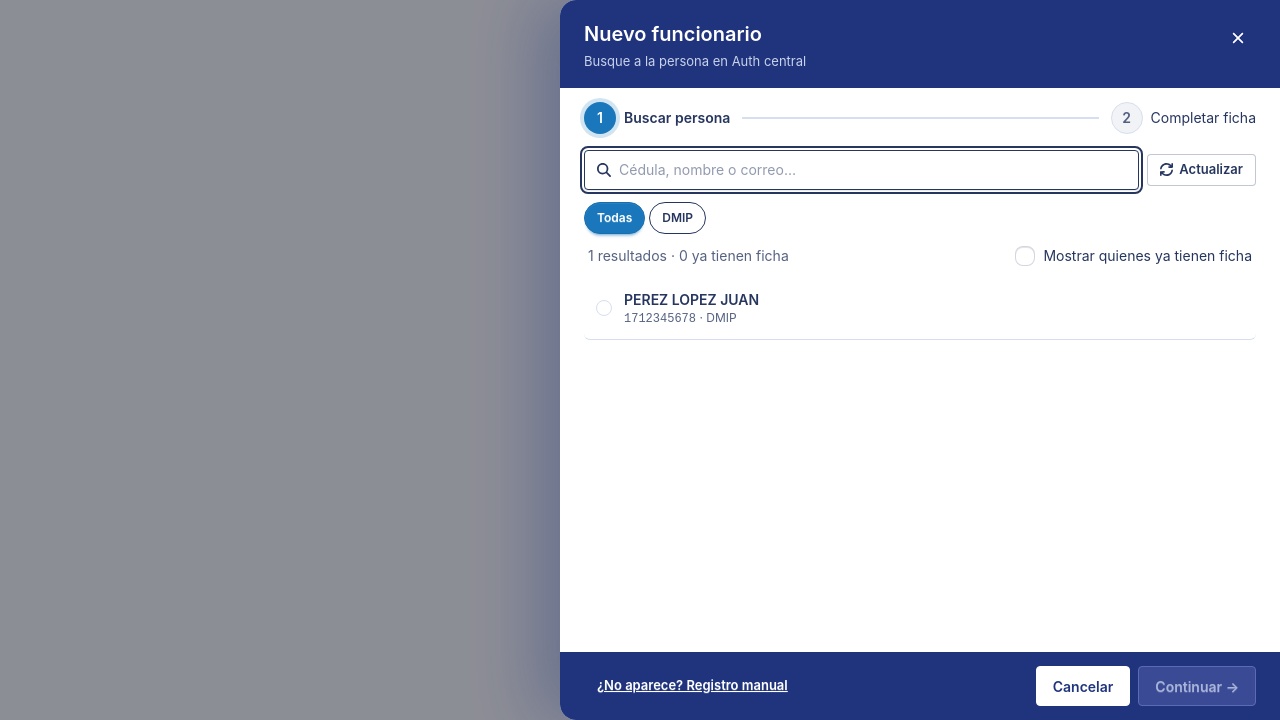
Test: DrawerFlujoAlta · el pie gobierna el avance al paso 2 › el doble clic en una persona pasa directo al paso 2
Double-click the button "PEREZ LOPEZ JUAN 1712345678 · DMIP".
double_click(692, 299)  # box [584,278,1256,340]
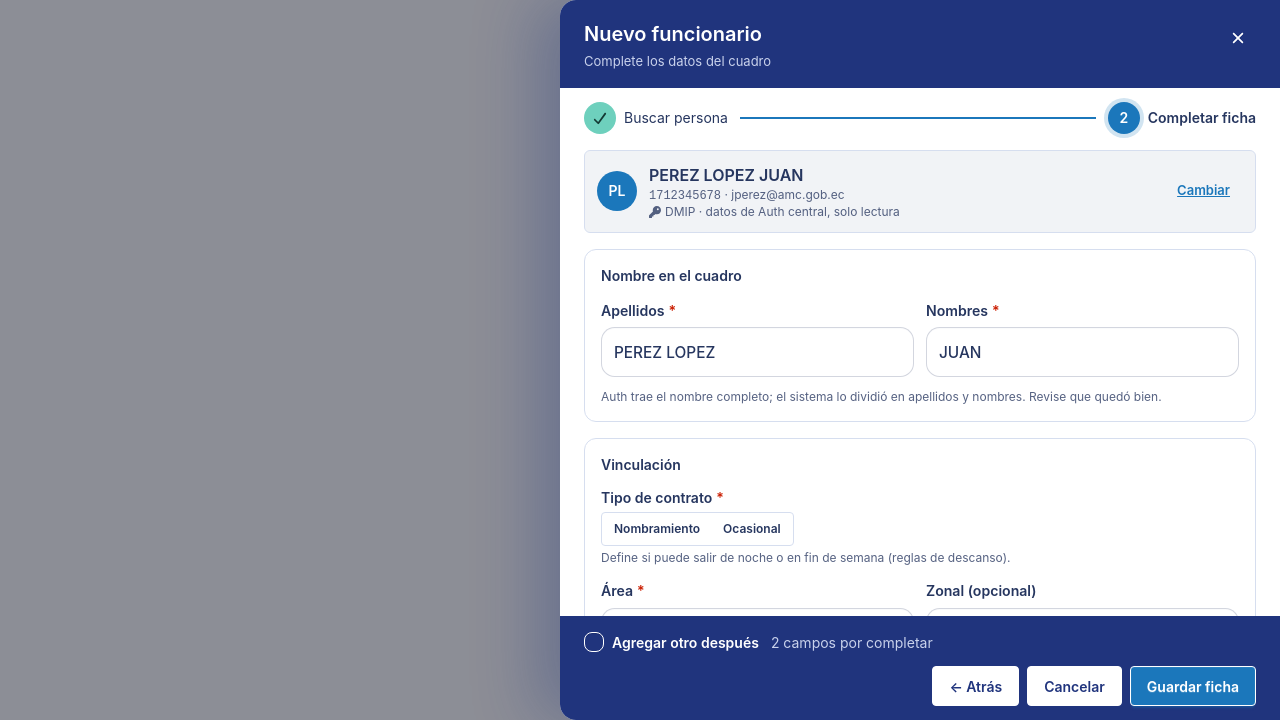
expect the button "Guardar ficha" is shown: met, box [1130,666,1256,706]
